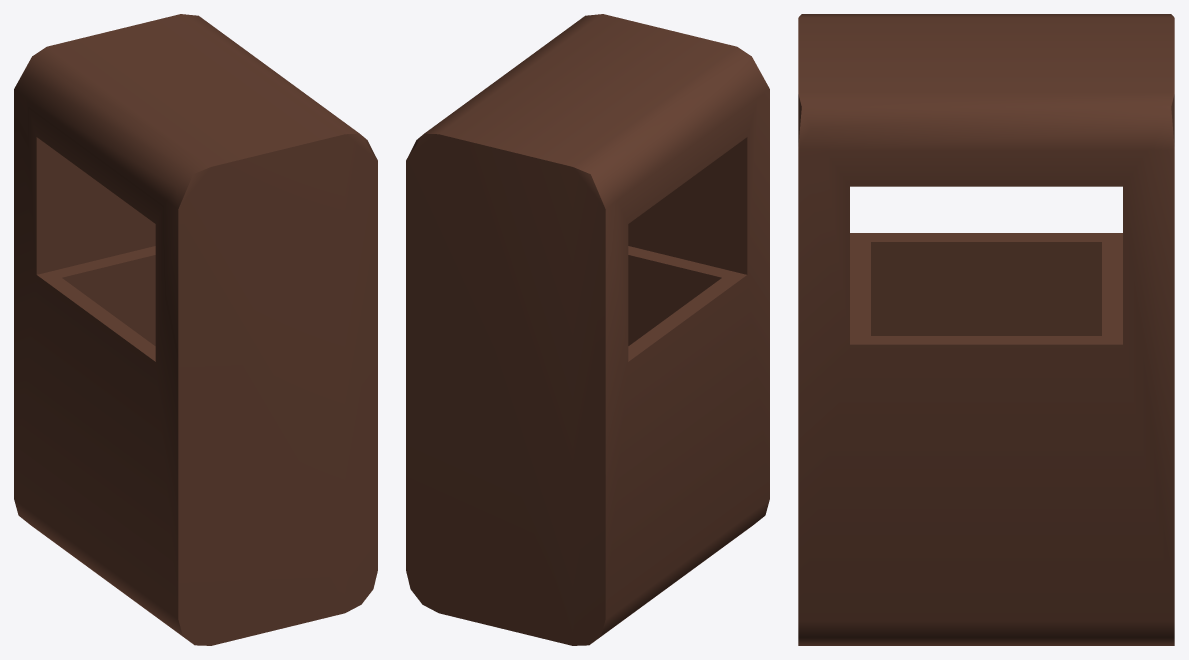
Rendered from Poubelle.fbx.
3 renders of one model, left to right at view 1: azimuth 30°, elevation 25°; view 2: azimuth 150°, elevation 25°; view 3: azimuth 270°, elevation 25°, orthographic. The views are drawn at different scales.
Parts seen in each view (by area): view 1: Poubelle; view 2: Poubelle; view 3: Poubelle.
Boxes of the visible parts, <box> form: Poubelle: <box>14,14,377,645</box>; Poubelle: <box>406,14,769,645</box>; Poubelle: <box>798,14,1174,645</box>.
Bounding box in the file's own units: 47.93 × 110 × 68.36.
